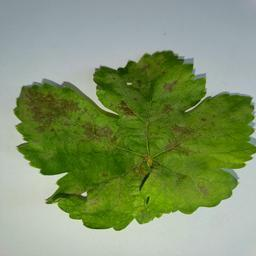Powdery-Mildew: (27, 88, 78, 129)
